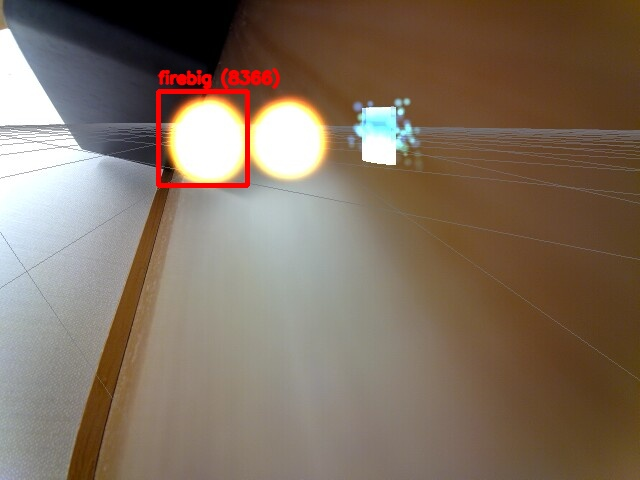firebig: (158, 91, 247, 185)
